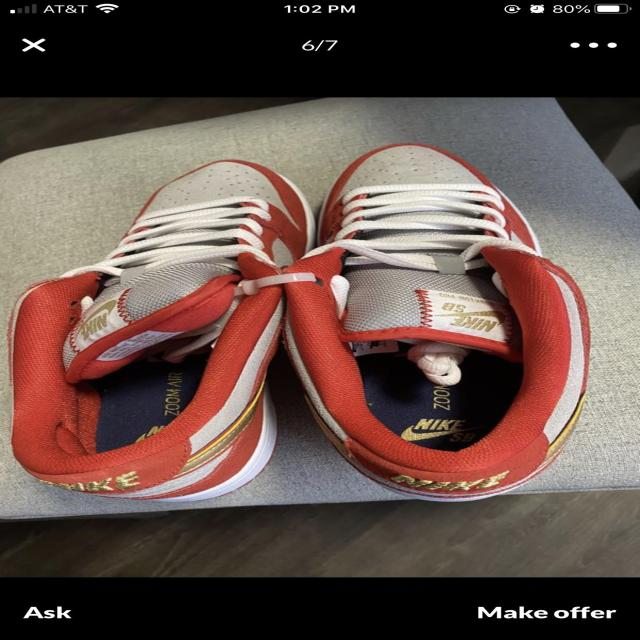shoe: (276, 139, 617, 518), (6, 152, 325, 515)
